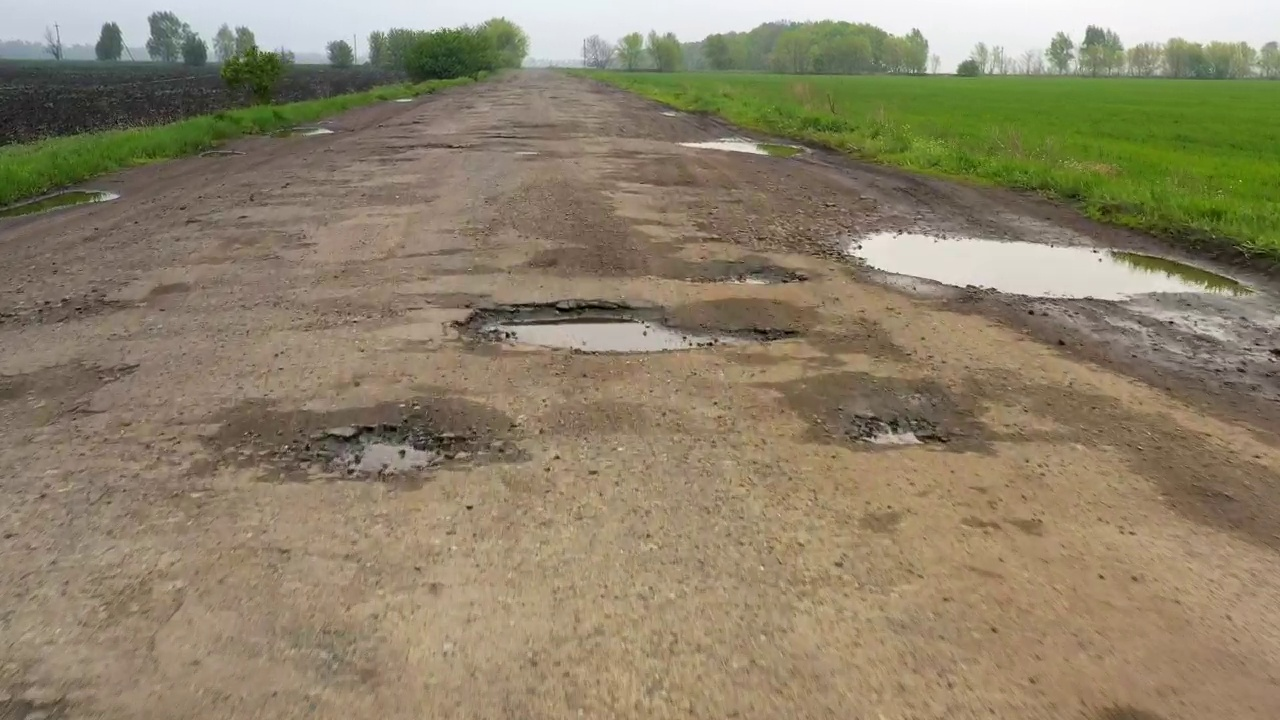pothole: (837, 223, 1187, 309), (448, 296, 766, 361), (304, 423, 532, 479)
